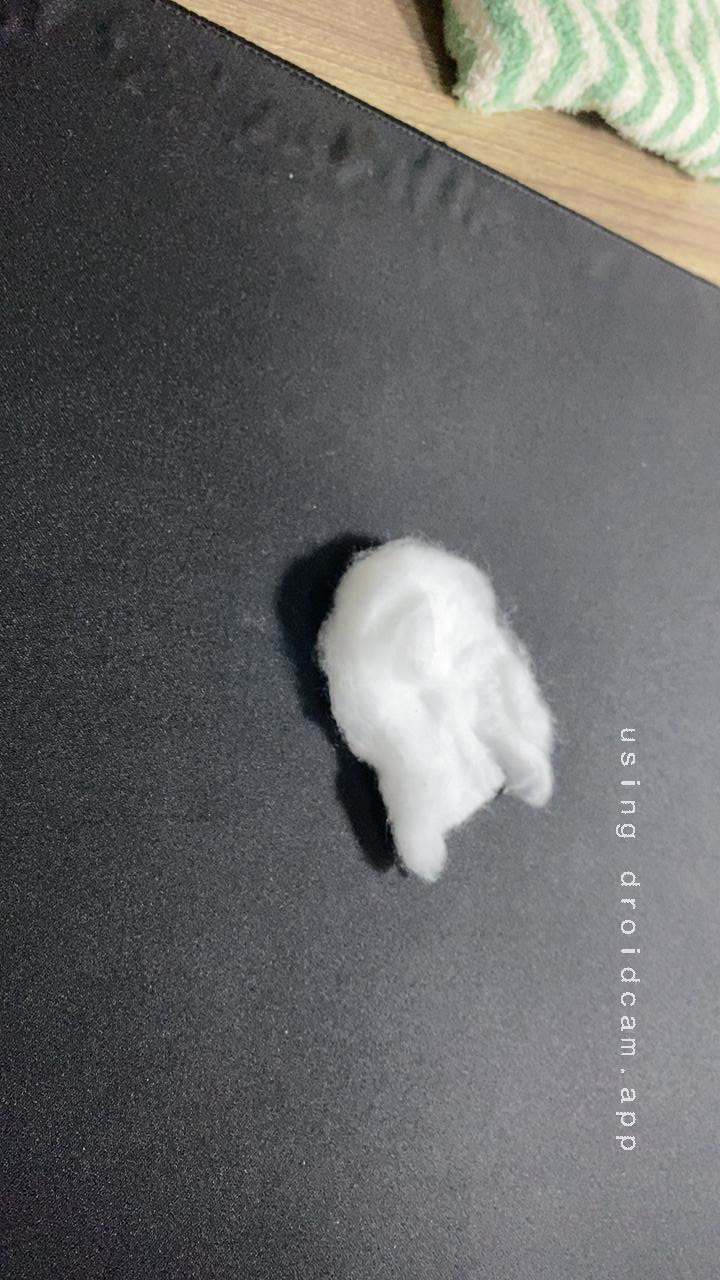cotton: (263, 514, 586, 905)
